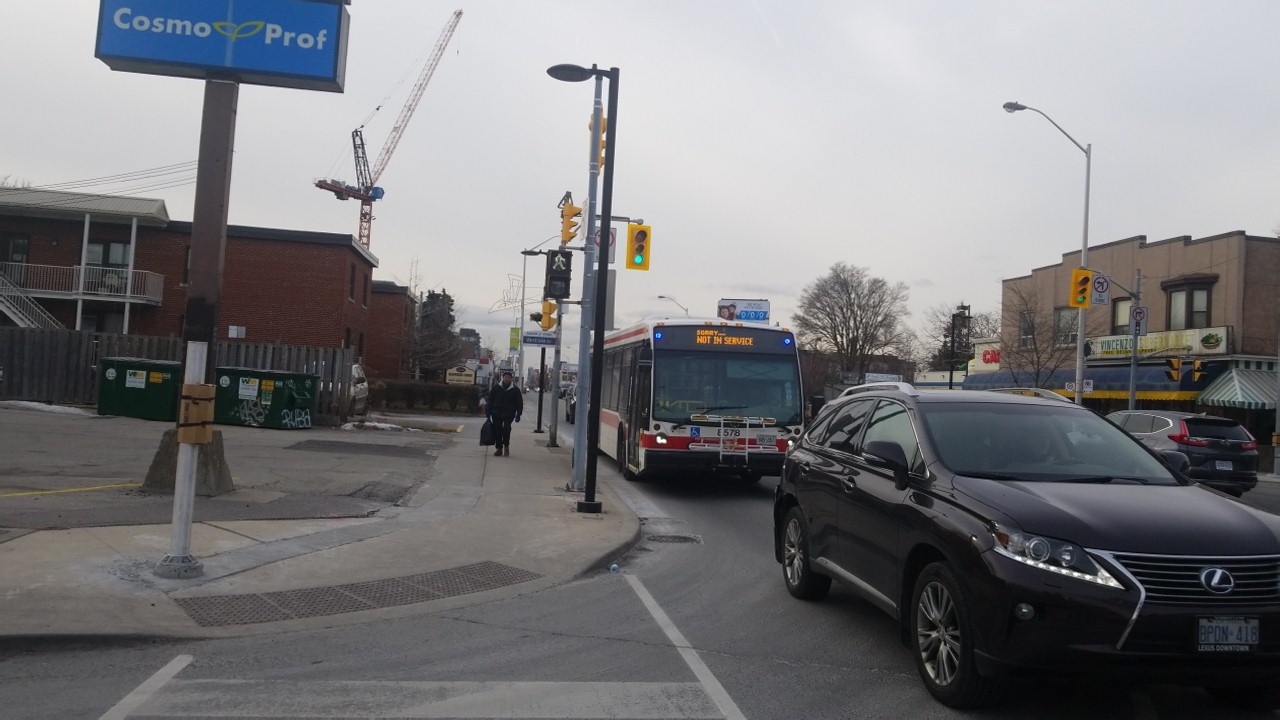light: (539, 242, 580, 304)
